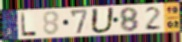2: (143, 6, 163, 31)
7: (69, 9, 90, 35)
8: (119, 6, 141, 32), (42, 10, 62, 37)
L: (20, 12, 37, 37)
U: (89, 7, 117, 35)
